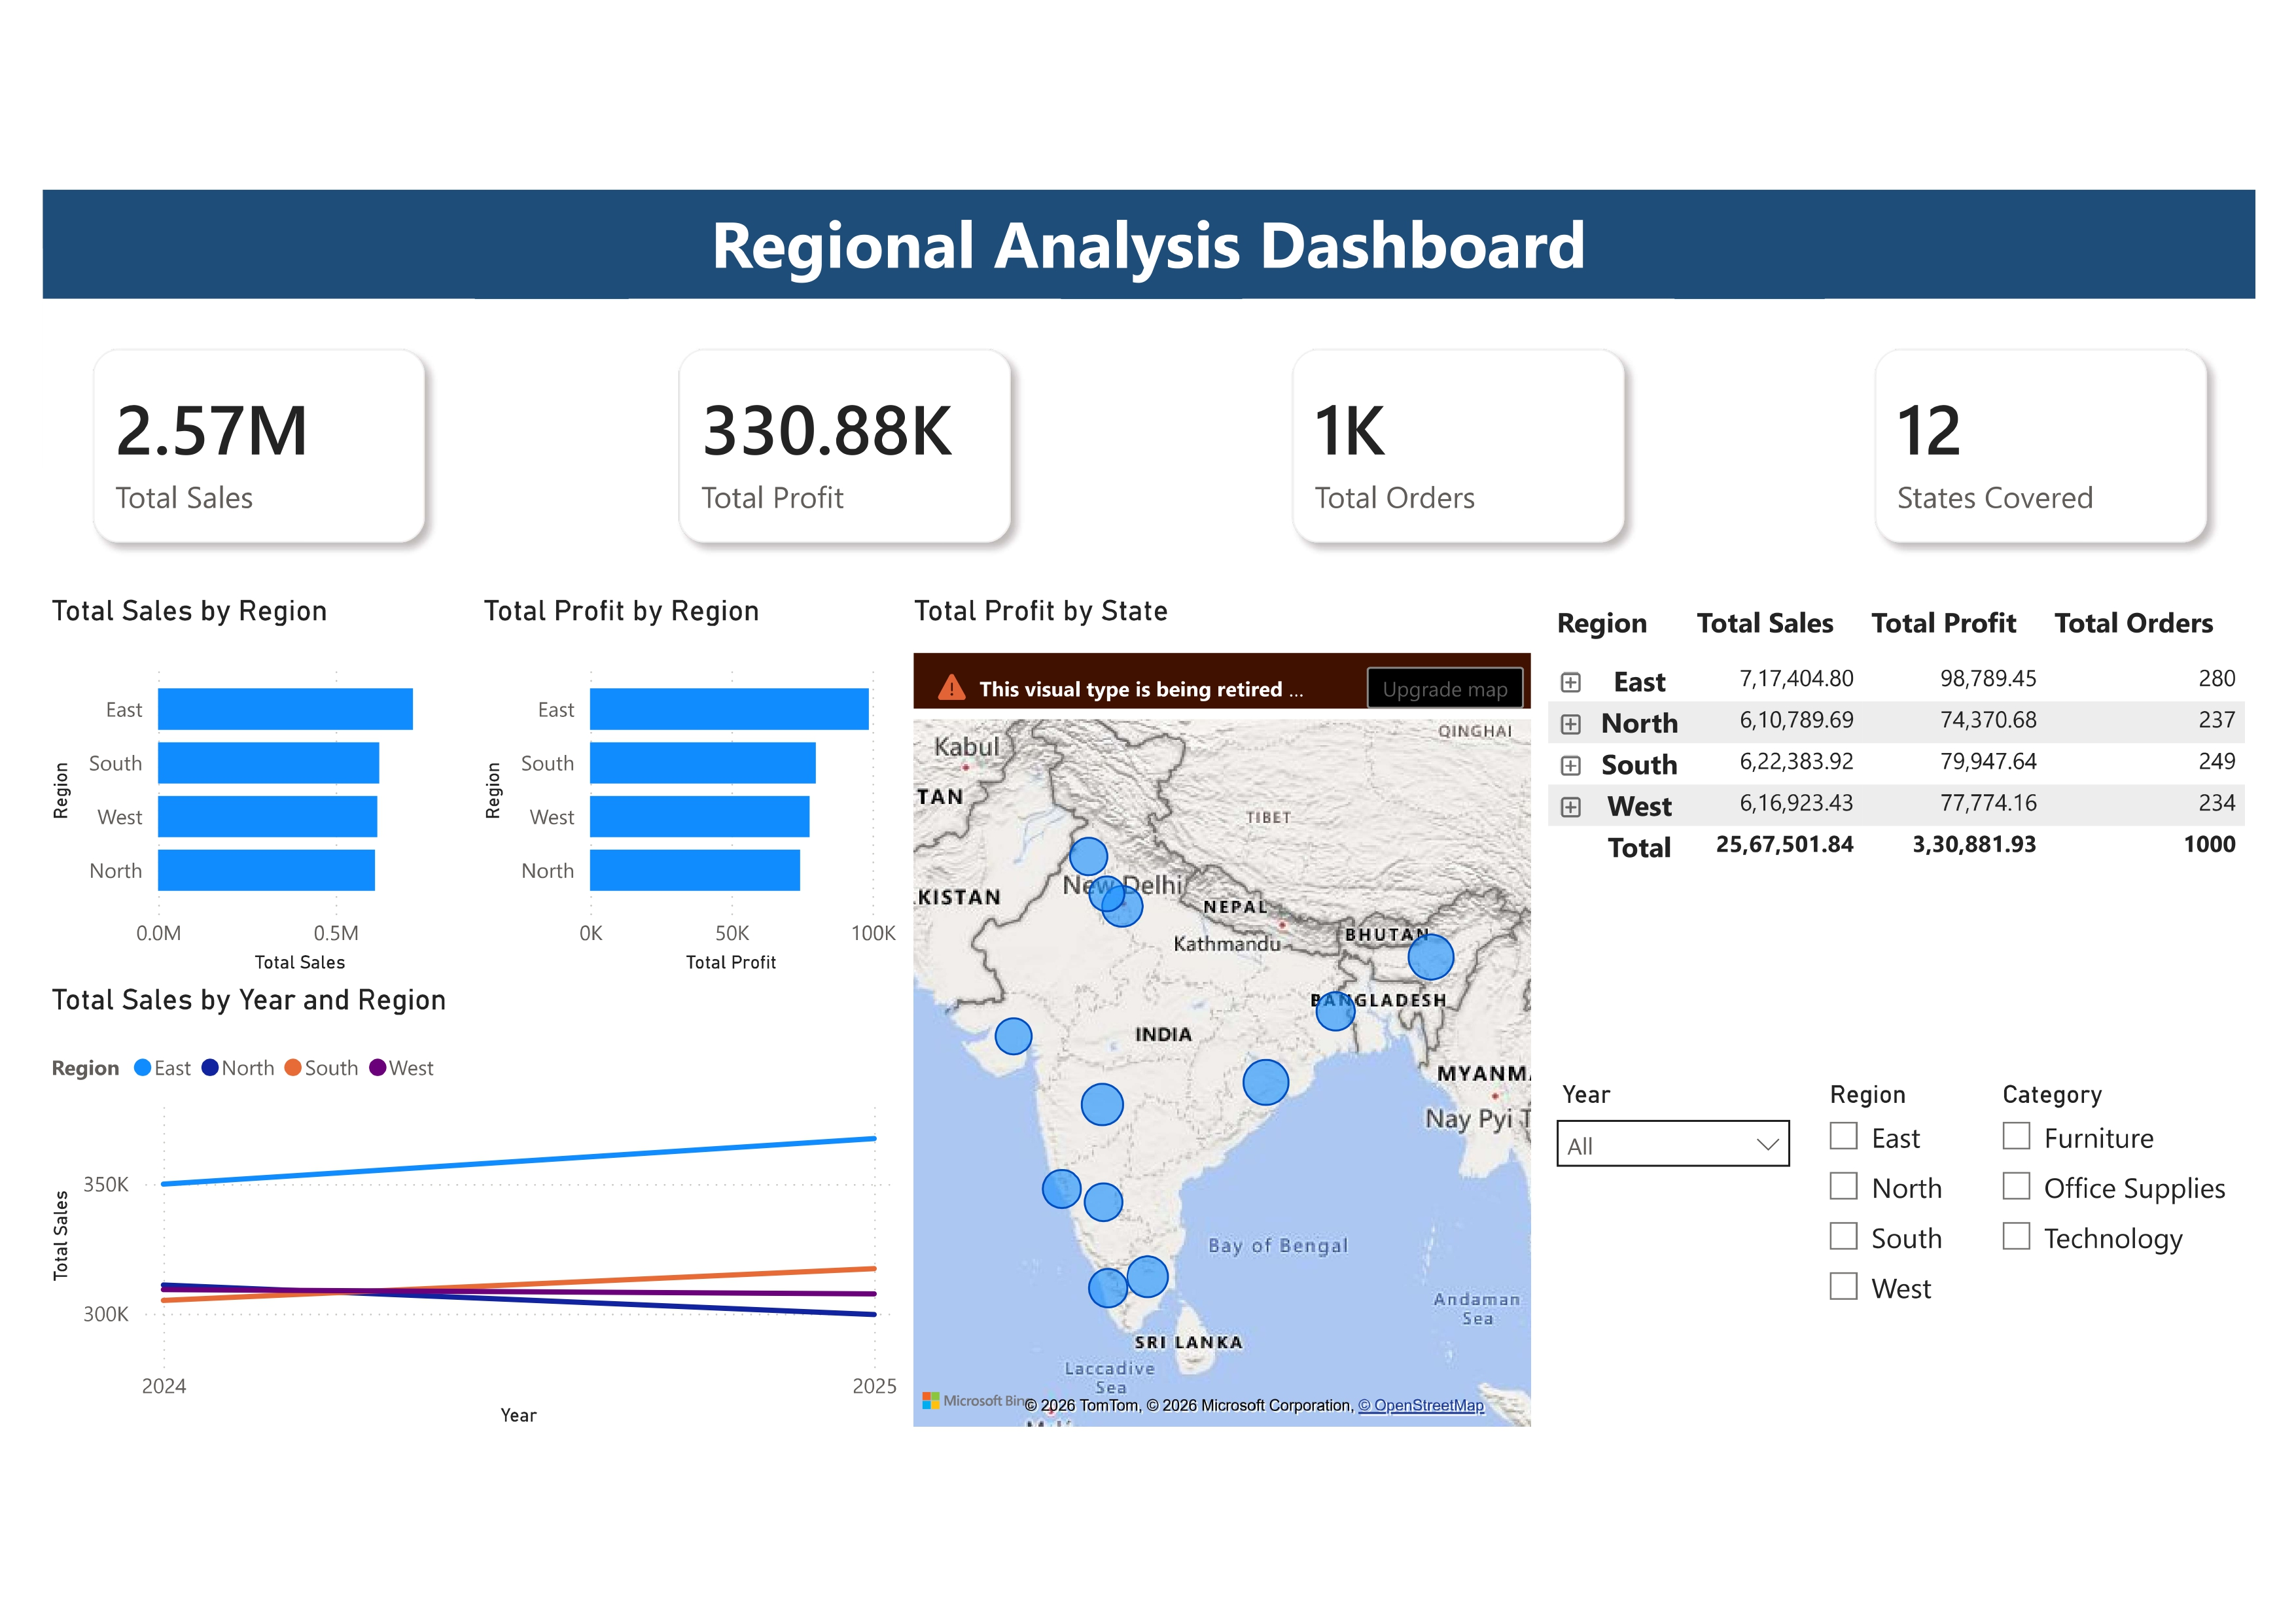

Layout of this report page (visuals, bound fields, positions):
{"tool":"powerbi","page":{"name":"Regional Analysis","canvas":[1280,720],"ordinal":3},"visuals":[{"type":"textbox","box":[0,0,1280.3,63.1],"z":0},{"type":"cardVisual","fields":{"Data":["Orders.Total Profit"]},"box":[338.9,63.1,250,170],"z":1000},{"type":"cardVisual","fields":{"Data":["Orders.Total Orders"]},"box":[694.3,63.1,250,170],"z":2000},{"type":"cardVisual","fields":{"Data":["Orders.States Covered"]},"box":[1030.5,63.1,250,170],"z":3000},{"type":"cardVisual","fields":{"Data":["Orders.Total Sales"]},"box":[0,63.1,250,170],"z":4000},{"type":"clusteredBarChart","fields":{"Category":["Orders.Region"],"Y":["Orders.Total Sales"]},"box":[0,233.3,249.7,225],"z":5000},{"type":"clusteredBarChart","fields":{"Category":["Orders.Region"],"Y":["Orders.Total Profit"]},"box":[249.7,233.3,249.7,225],"z":6000},{"type":"map","fields":{"Category":["Orders.State"],"Size":["Orders.Total Profit"]},"box":[499.5,233.3,366.4,487.1],"z":7000},{"type":"lineChart","fields":{"Category":["Calendar.Date.Variation.Date Hierarchy.Year","Calendar.Date.Variation.Date Hierarchy.Month"],"Series":["Orders.Region"],"Y":["Orders.Total Sales"]},"box":[0,458.3,499.5,262.1],"z":8000},{"type":"pivotTable","fields":{"Rows":["Orders.Region","Orders.State"],"Values":["Orders.Total Sales","Orders.Total Profit","Orders.Total Orders"]},"box":[865.9,233.3,414.4,234.6],"z":9000},{"type":"slicer","fields":{"Values":["Calendar.Year"]},"box":[865.9,510.5,155.1,209.9],"z":10000},{"type":"slicer","fields":{"Values":["Orders.Region"]},"box":[1020.9,510.5,100.2,209.9],"z":11000},{"type":"slicer","fields":{"Values":["Orders.Category"]},"box":[1121.1,510.5,159.2,209.9],"z":12000}]}

Visuals, with their boxes on the page's 1280x720 design canvas (x1, y1, x2, y2). These are canvas units, not pixel positions in the 2296x1623 screenshot, which may show the page scaled, cropped or inside an application window:
textbox: (0, 0, 1280, 63)
cardVisual - Orders.Total Profit: (339, 63, 589, 233)
cardVisual - Orders.Total Orders: (694, 63, 944, 233)
cardVisual - Orders.States Covered: (1030, 63, 1280, 233)
cardVisual - Orders.Total Sales: (0, 63, 250, 233)
clusteredBarChart - Orders.Region x Orders.Total Sales: (0, 233, 250, 458)
clusteredBarChart - Orders.Region x Orders.Total Profit: (250, 233, 499, 458)
map - Orders.State x Orders.Total Profit: (500, 233, 866, 720)
lineChart - Calendar.Date.Variation.Date Hierarchy.Year x Calendar.Date.Variation.Date Hierarchy.Month: (0, 458, 500, 720)
pivotTable - Orders.Region x Orders.State: (866, 233, 1280, 468)
slicer - Calendar.Year: (866, 510, 1021, 720)
slicer - Orders.Region: (1021, 510, 1121, 720)
slicer - Orders.Category: (1121, 510, 1280, 720)
